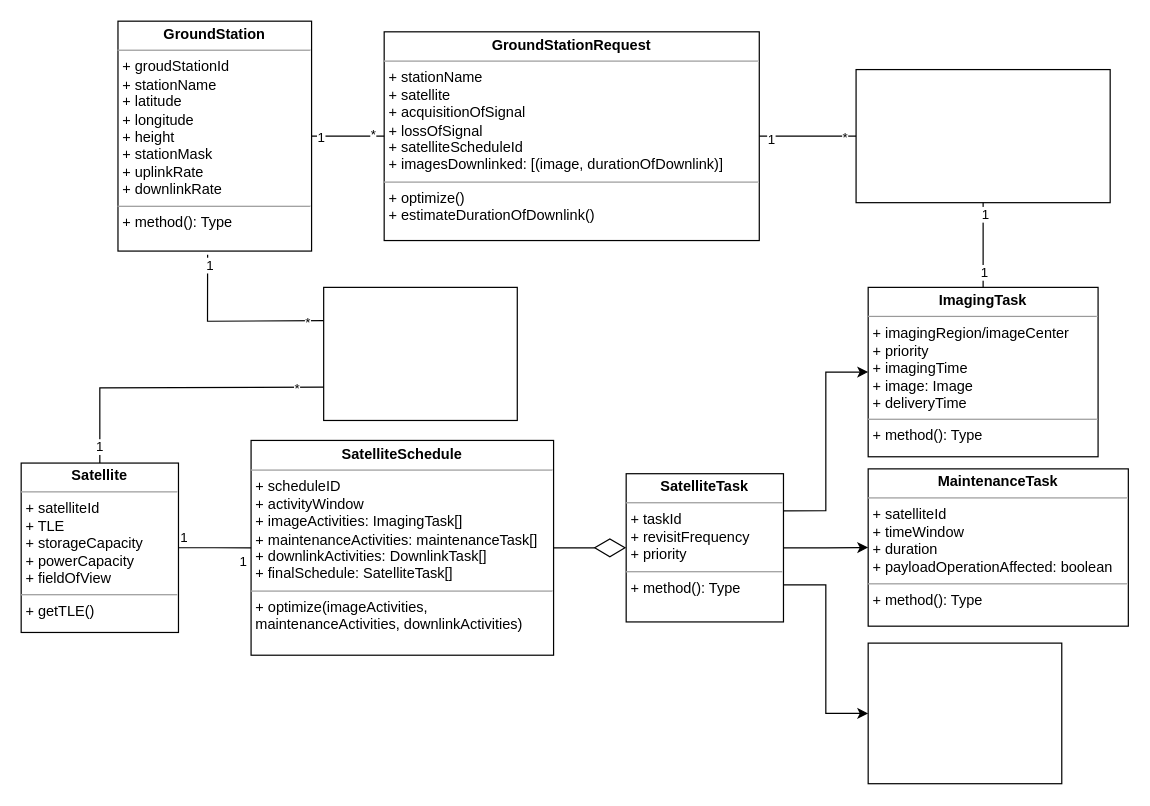
Image size: 1150x806. Some labels were removed from this diagram. Here are the shapes that lost their labels. From the top down, the box of each, then its label:
(855, 68, 1110, 203): Image + imageId + imageSize + imageType + estimateImageSize(imageType)
(322, 286, 517, 420): Outage + target + startTime + endTime + checkConflict()
(867, 642, 1062, 784): DownlinkTask + imageId + downlinkStart + downlinkEnd + method(): Type
